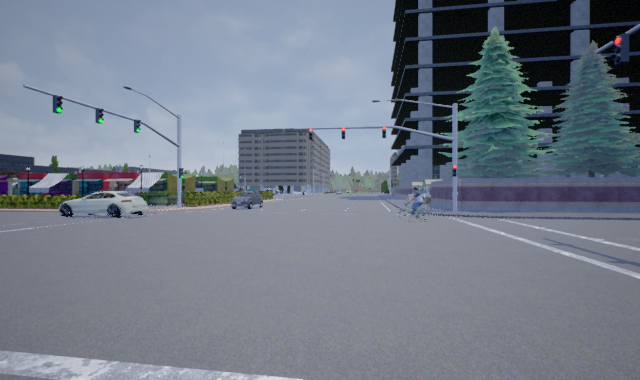bike: (398, 186, 432, 222)
traffic_light: (612, 33, 631, 69), (53, 93, 64, 115), (95, 105, 105, 123), (133, 117, 141, 134), (307, 127, 315, 141), (178, 166, 186, 179), (451, 164, 458, 177), (382, 125, 388, 139), (341, 126, 346, 141)
vehicle: (58, 191, 148, 217), (231, 192, 263, 209)
